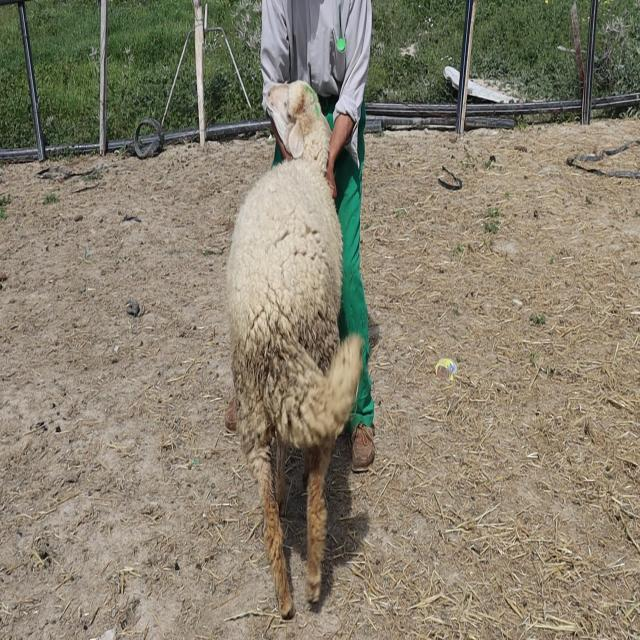Score_4: (227, 81, 364, 618)
